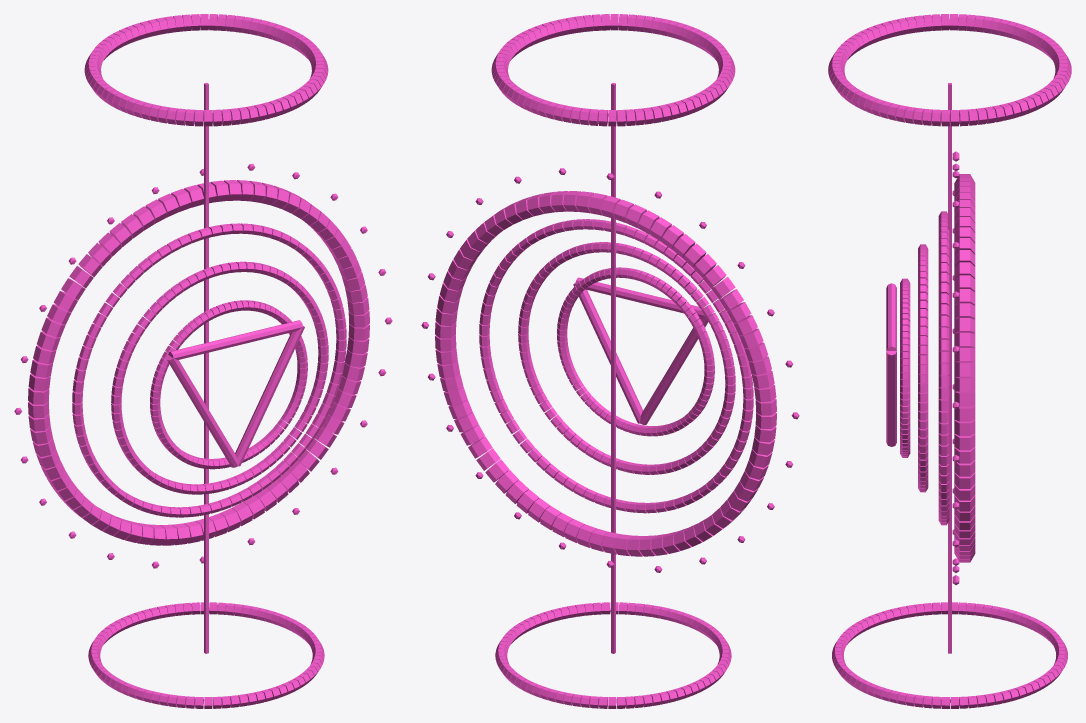
File: Reactor_Lara_3D.glb
3 renders of one model, left to right at view 1: azimuth 30°, elevation 25°; view 2: azimuth 150°, elevation 25°; view 3: azimuth 270°, elevation 25°, orthographic.
Visible parts, largest first — view 1: Lara_haz_energia, Lara_triangulo_edge_1, Lara_triangulo_edge_0, Lara_triangulo_edge_2; view 2: Lara_haz_energia, Lara_triangulo_edge_1, Lara_triangulo_edge_2, Lara_triangulo_edge_0; view 3: Lara_haz_energia, Lara_triangulo_edge_1, Lara_triangulo_edge_0.
Part boxes in pixels (x1,y1,x2,y2): Lara_haz_energia: (204,83,208,653); Lara_triangulo_edge_1: (235,326,304,466); Lara_triangulo_edge_0: (168,320,302,359); Lara_triangulo_edge_2: (166,355,238,467); Lara_haz_energia: (611,83,615,653); Lara_triangulo_edge_1: (573,283,643,423); Lara_triangulo_edge_2: (640,316,708,424); Lara_triangulo_edge_0: (575,277,704,317); Lara_haz_energia: (948,83,951,653); Lara_triangulo_edge_1: (886,351,896,446); Lara_triangulo_edge_0: (886,283,896,350).
Bounding box in the file's own units: 2.91 × 4.4 × 1.63.
